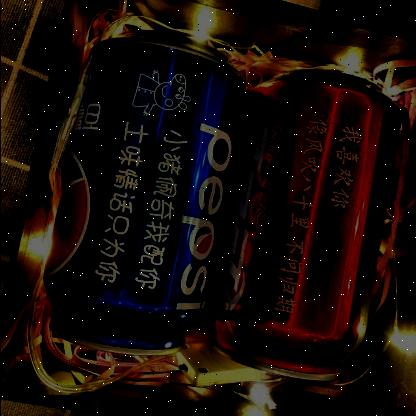Can: (42, 30, 252, 364), (196, 63, 410, 386)
